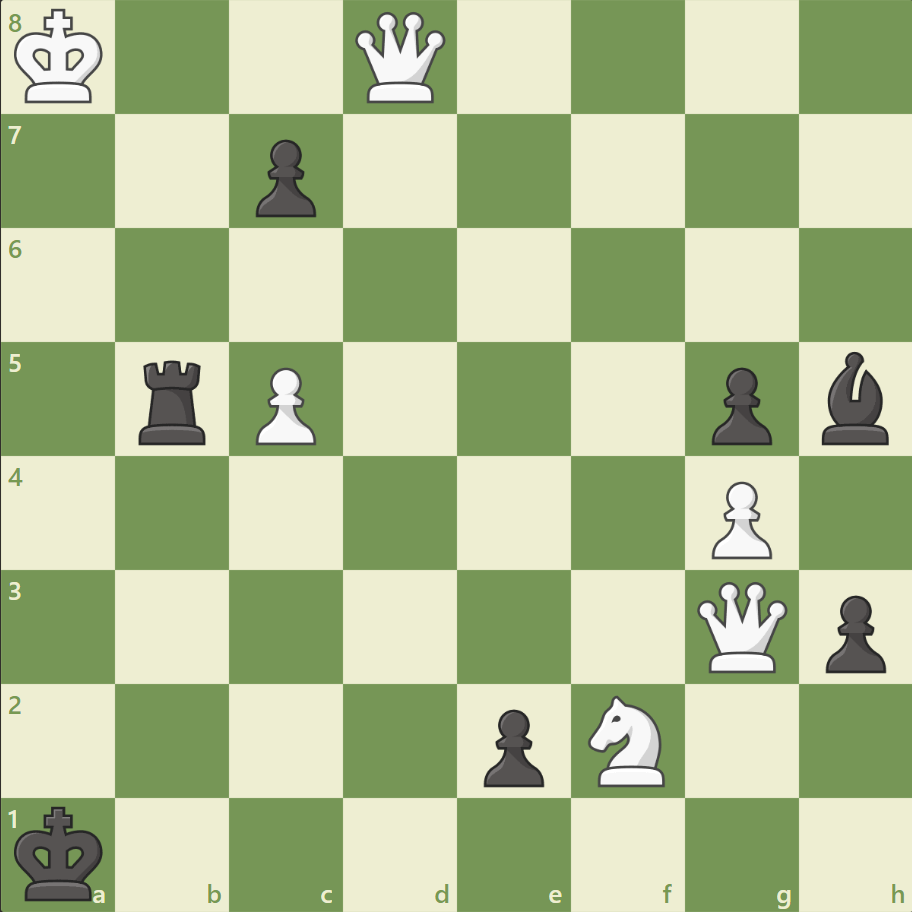K: (11, 4, 111, 112)
N: (579, 688, 676, 791)
P: (247, 359, 322, 450), (701, 473, 776, 564)
Q: (691, 576, 790, 676), (351, 9, 450, 108)
b: (812, 347, 896, 449)
k: (11, 798, 111, 906)
p: (247, 132, 322, 223), (701, 359, 776, 450), (474, 700, 549, 791), (815, 586, 889, 677)
r: (133, 352, 215, 449)
